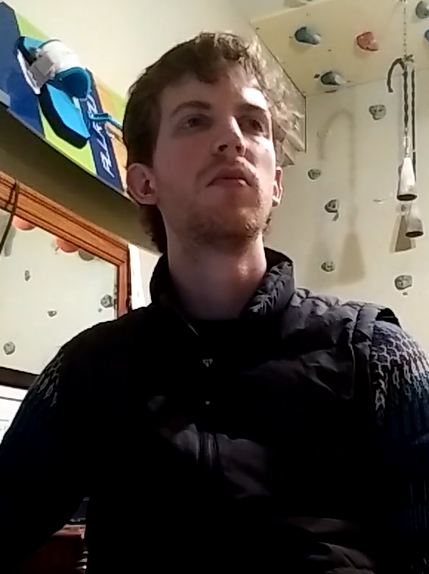Not Sleeping: (164, 99, 280, 149)
